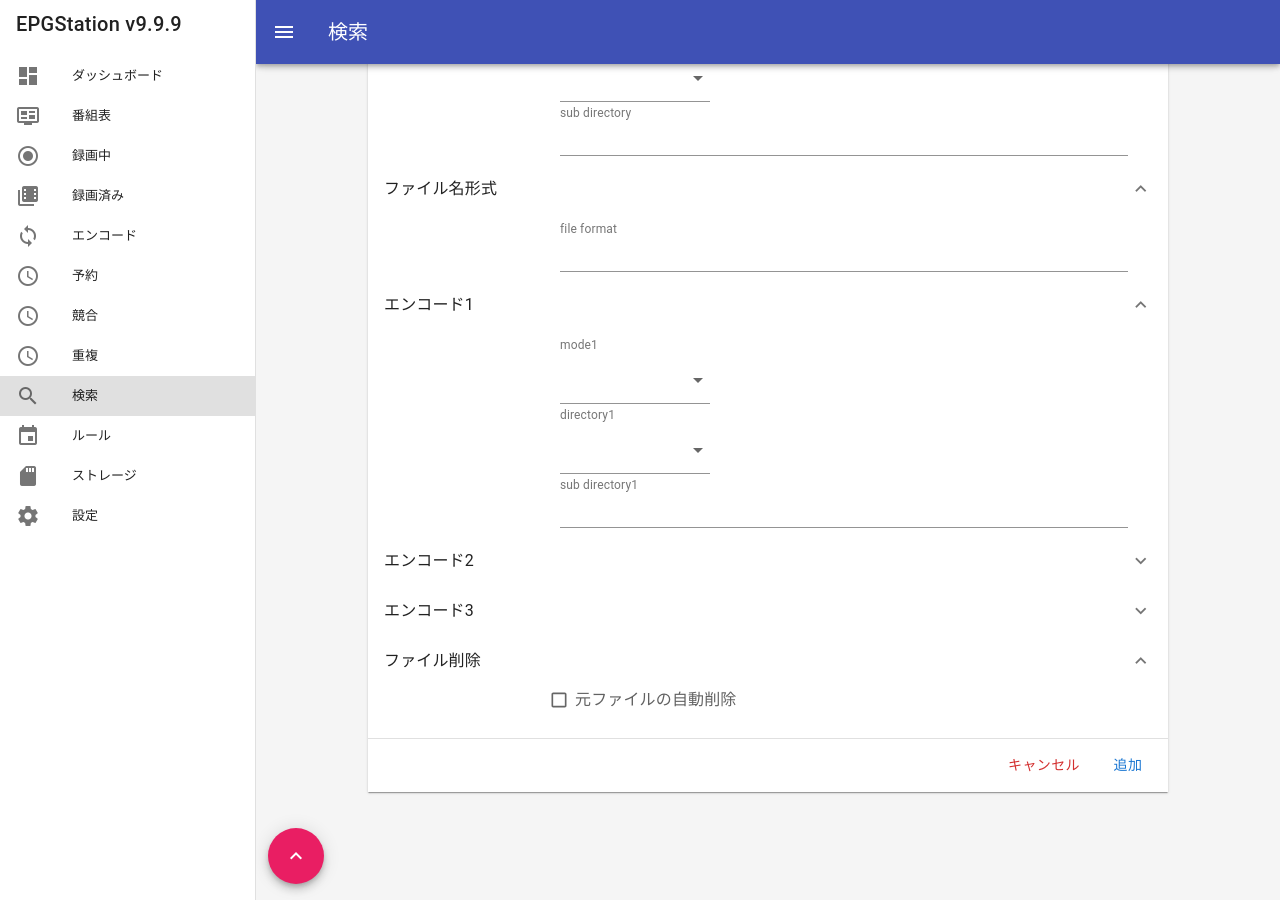
Scenario: Search route lifecycle › [AC 2.12] reports rule add failure without navigating away when addRule rejects
The image size is (1280, 900).
(page scrolled)
Step 1. Click the button "追加" → (1128, 766), box [1096,747,1160,784]
(page scrolled)
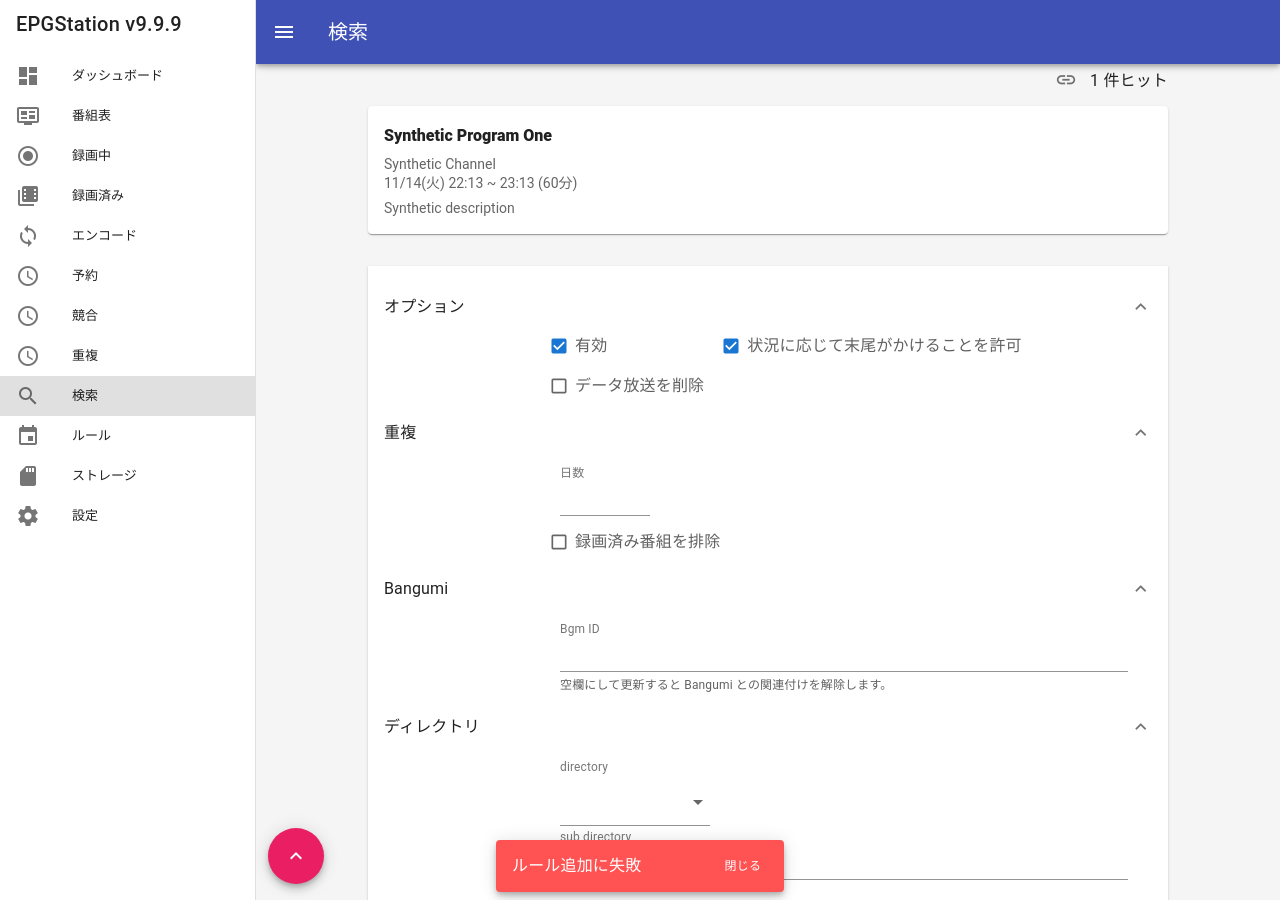
expect the heading "検索" is shown: met, box [328,20,368,44]
expect the text "ルール追加に失敗" is shown: met, box [512,856,641,875]
